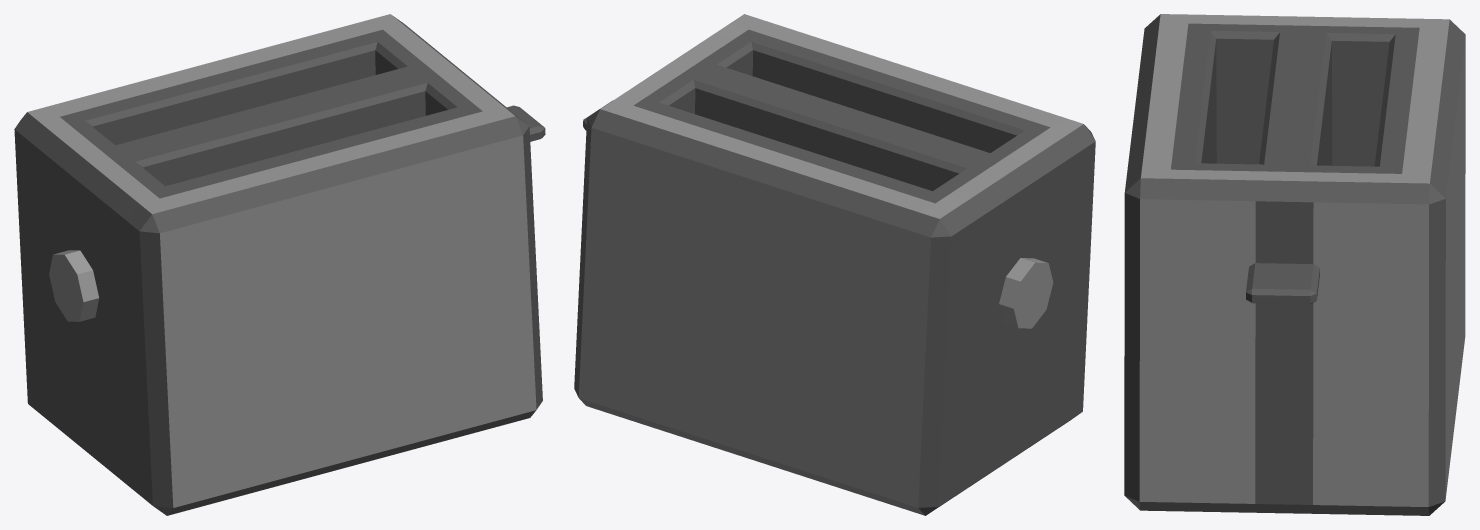
File: Toaster.fbx
3 renders of one model, left to right at view 1: azimuth 30°, elevation 25°; view 2: azimuth 150°, elevation 25°; view 3: azimuth 270°, elevation 25°, orthographic. The views are drawn at different scales.
Visible parts, largest first — view 1: Toaster; view 2: Toaster; view 3: Toaster.
Part boxes in pixels (<box>): Toaster: <box>14,14,545,515</box>; Toaster: <box>574,14,1095,515</box>; Toaster: <box>1124,14,1465,515</box>.
Size of the model in its own units: 40.87 by 24.78 by 27.62.
